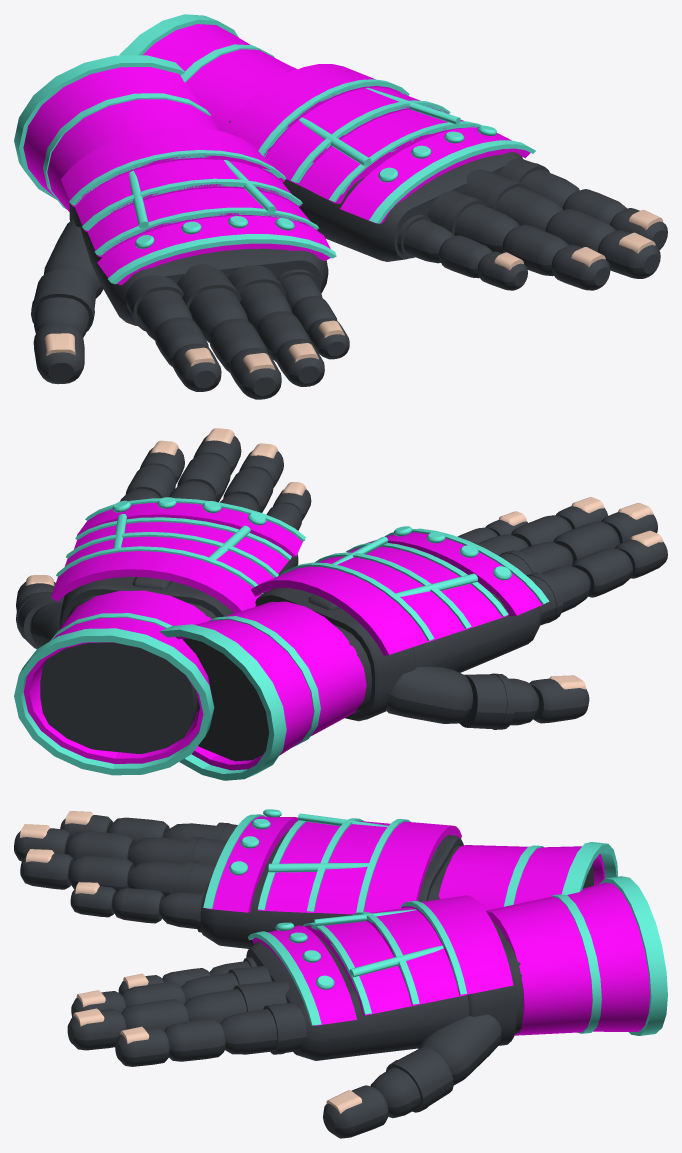
Rendered from objet_armure5_gants.glb.
3 renders of one model, top to bottom at view 1: azimuth 30°, elevation 25°; view 2: azimuth 150°, elevation 25°; view 3: azimuth 270°, elevation 25°, orthographic. The views are drawn at different scales.
Visible parts, largest first — view 1: main__gantelet_teinte.022, main__gantelet_teinte.021, manchette__gantelet_teinte.022, main__gantelet_nano_lueur.006, main__gantelet_nano_lueur.005, manchette__gantelet_teinte.021, main.021, main.022, manchette__gantelet_nano_lueur.006, pouce_2.022, annulaire_1.021, majeur_1.021 (+25 smaller); view 2: main__gantelet_teinte.022, manchette.021, main__gantelet_teinte.021, manchette__gantelet_teinte.022, main.022, manchette__gantelet_teinte.021, manchette__gantelet_nano_lueur.005, main__gantelet_nano_lueur.005, manchette__gantelet_nano_lueur.006, main__gantelet_nano_lueur.006, manchette.022, pouce_1.022 (+25 smaller); view 3: manchette__gantelet_teinte.021, main__gantelet_teinte.021, main__gantelet_teinte.022, main.021, manchette__gantelet_teinte.022, main__gantelet_nano_lueur.005, main__gantelet_nano_lueur.006, main.022, manchette__gantelet_nano_lueur.005, pouce_2.021, index_1.021, pouce_1.021 (+24 smaller).
Boxes of the visible parts, x1,y1,x2,y2 form: main__gantelet_teinte.022: (61,126,330,285); main__gantelet_teinte.021: (224,64,530,223); manchette__gantelet_teinte.022: (23,67,219,211); main__gantelet_nano_lueur.006: (69,150,336,284); main__gantelet_nano_lueur.005: (258,79,535,223); manchette__gantelet_teinte.021: (143,24,297,131); main.021: (229,121,522,261); main.022: (69,203,328,325); manchette__gantelet_nano_lueur.006: (14,55,210,209); pouce_2.022: (31,269,96,337); annulaire_1.021: (427,190,519,253); majeur_1.021: (462,169,563,231); main__gantelet_teinte.022: (251,532,545,655); manchette.021: (40,642,197,753); main__gantelet_teinte.021: (51,502,302,613); manchette__gantelet_teinte.022: (176,601,366,770); main.022: (255,588,541,721); manchette__gantelet_teinte.021: (23,590,212,763); manchette__gantelet_nano_lueur.005: (14,613,214,775); main__gantelet_nano_lueur.005: (56,497,305,595); manchette__gantelet_nano_lueur.006: (159,616,320,780); main__gantelet_nano_lueur.006: (279,526,549,640); manchette.022: (182,638,268,761); pouce_1.022: (386,666,472,723); manchette__gantelet_teinte.021: (486,882,649,1035); main__gantelet_teinte.021: (252,895,513,1025); main__gantelet_teinte.022: (207,816,461,914); main.021: (246,930,523,1060); manchette__gantelet_teinte.022: (438,845,604,910); main__gantelet_nano_lueur.005: (248,901,466,1025); main__gantelet_nano_lueur.006: (203,809,410,912); main.022: (200,825,463,948); manchette__gantelet_nano_lueur.005: (551,876,667,1035); pouce_2.021: (370,1047,453,1118); index_1.021: (220,1002,306,1054); pouce_1.021: (418,1014,501,1085).
Bounding box in the file's own units: 0.3286 × 0.0844 × 0.3517.
